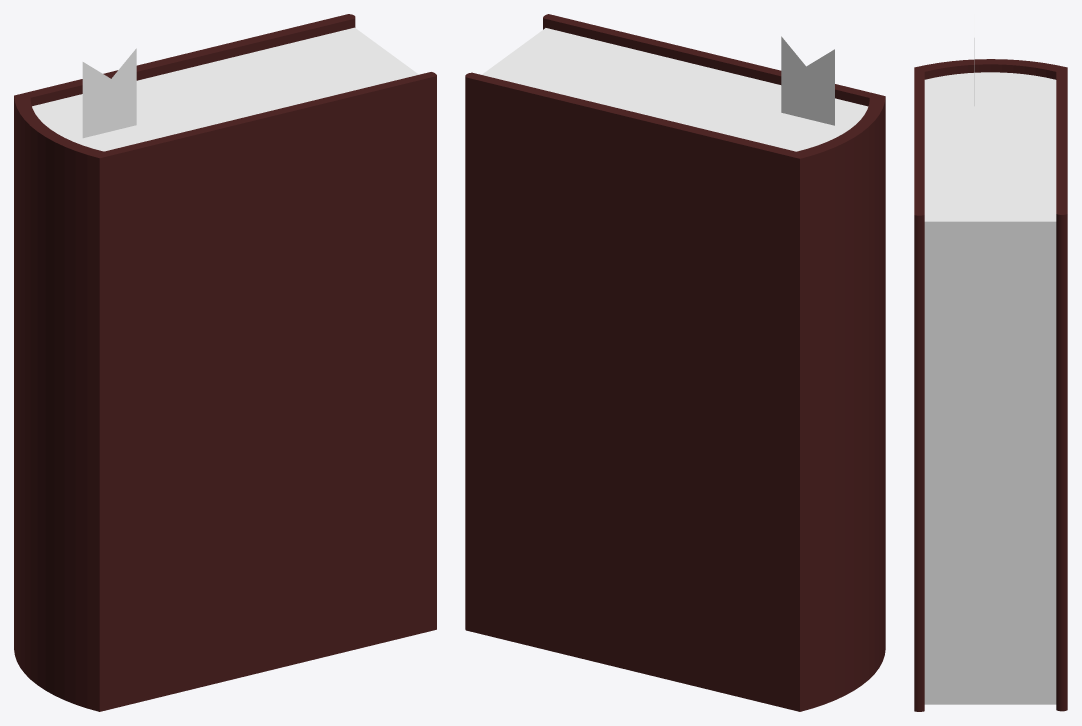
3 views of the same model, side by side, from view 1: azimuth 30°, elevation 25°; view 2: azimuth 150°, elevation 25°; view 3: azimuth 270°, elevation 25° (orthographic). The views are drawn at different scales.
Parts seen in each view (by area): view 1: book; view 2: book; view 3: book.
Part boxes in pixels (x1,y1,x2,y2): book: [14, 14, 436, 711]; book: [465, 14, 885, 711]; book: [914, 14, 1067, 711].
Bounding box in the file's own units: 63.18 × 105 × 26.2.
